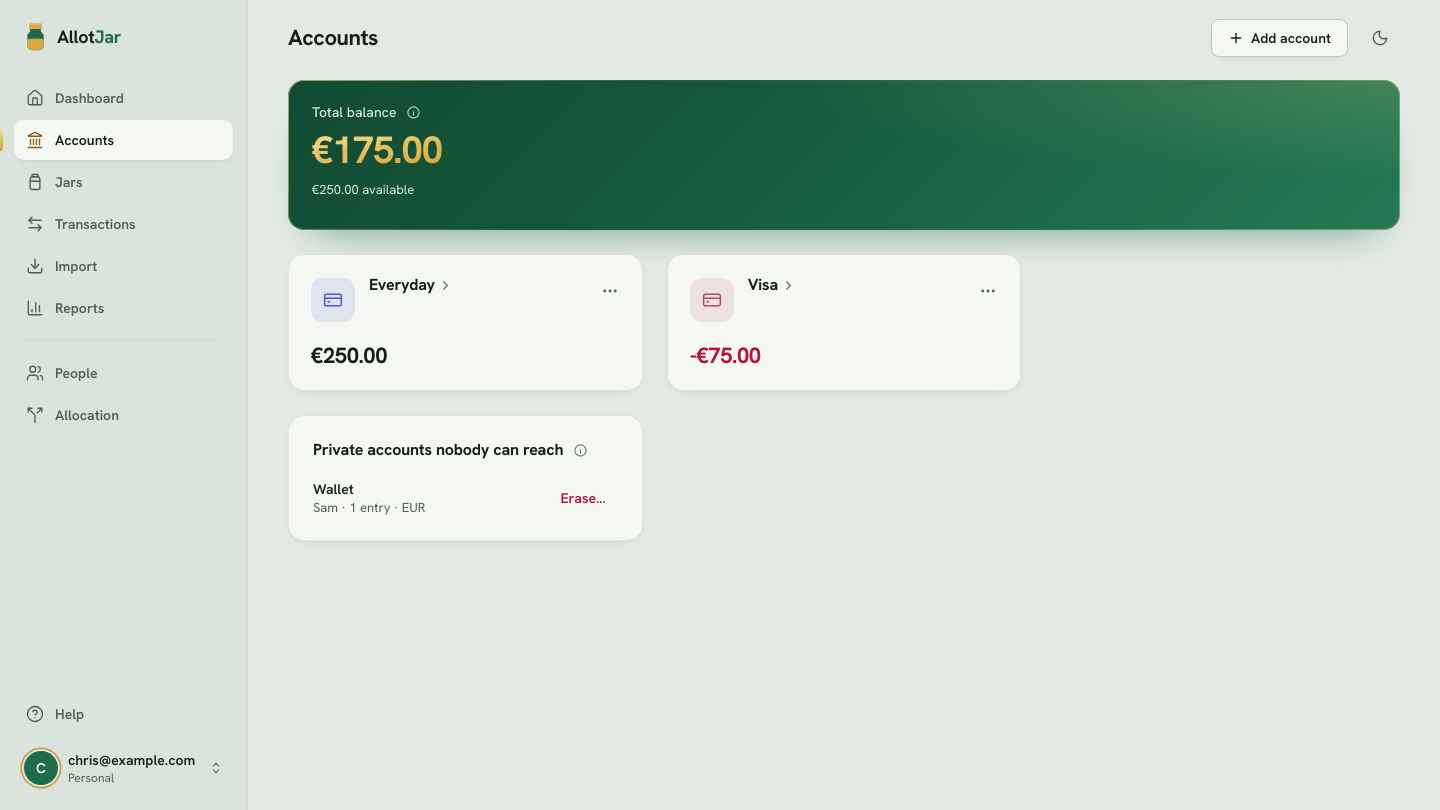
AccountsPage › shows the server’s reason when an erase is refused
Step 1. Click the button with aria-label "Erase Wallet" → coordinates (583, 498), box 548,478 -> 618,518
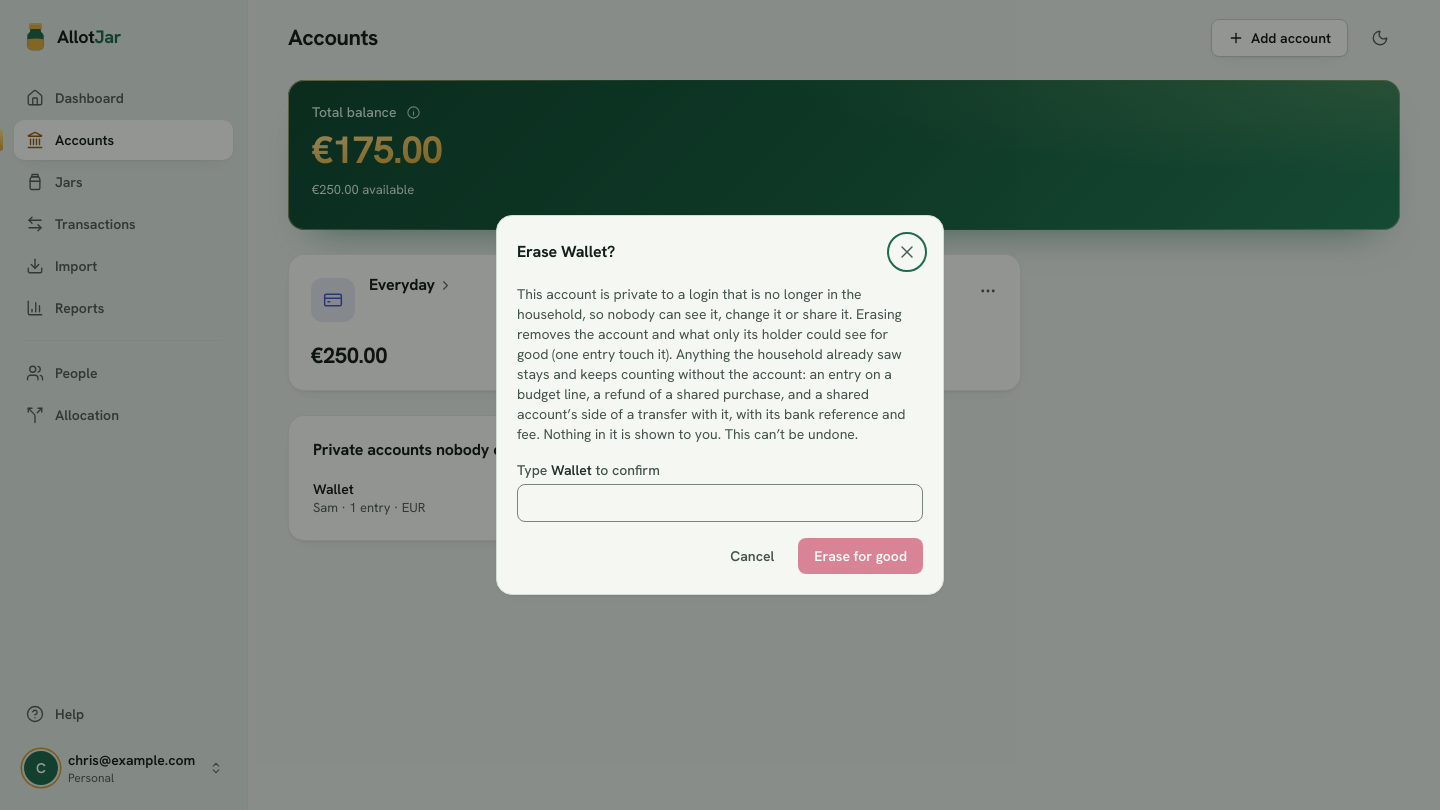
Step 2. Type "wallet" into the field labelled "Type Wallet to confirm" → coordinates (720, 503), box 517,484 -> 923,522
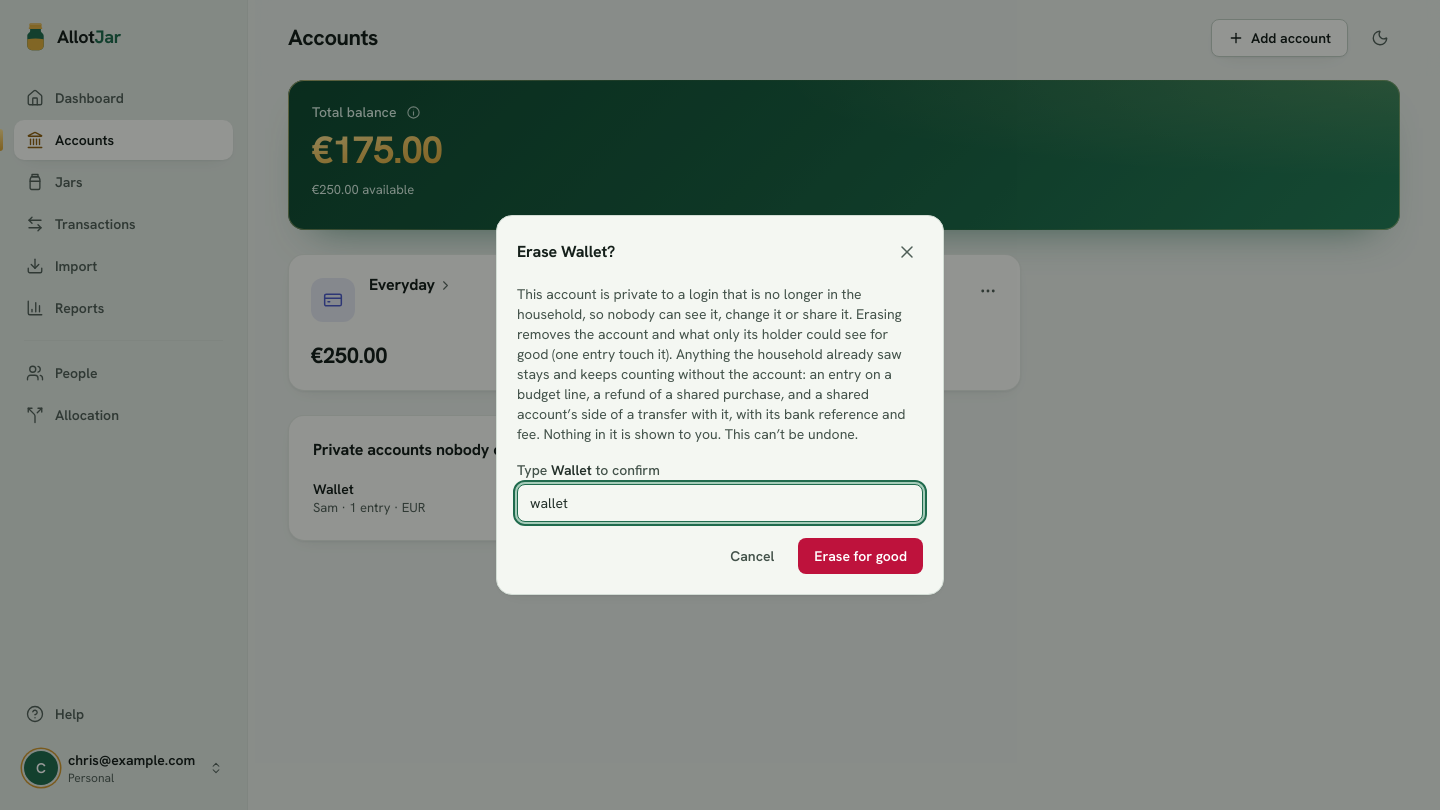
Step 3. Click the button "Erase for good" → coordinates (861, 556), box 798,538 -> 923,574
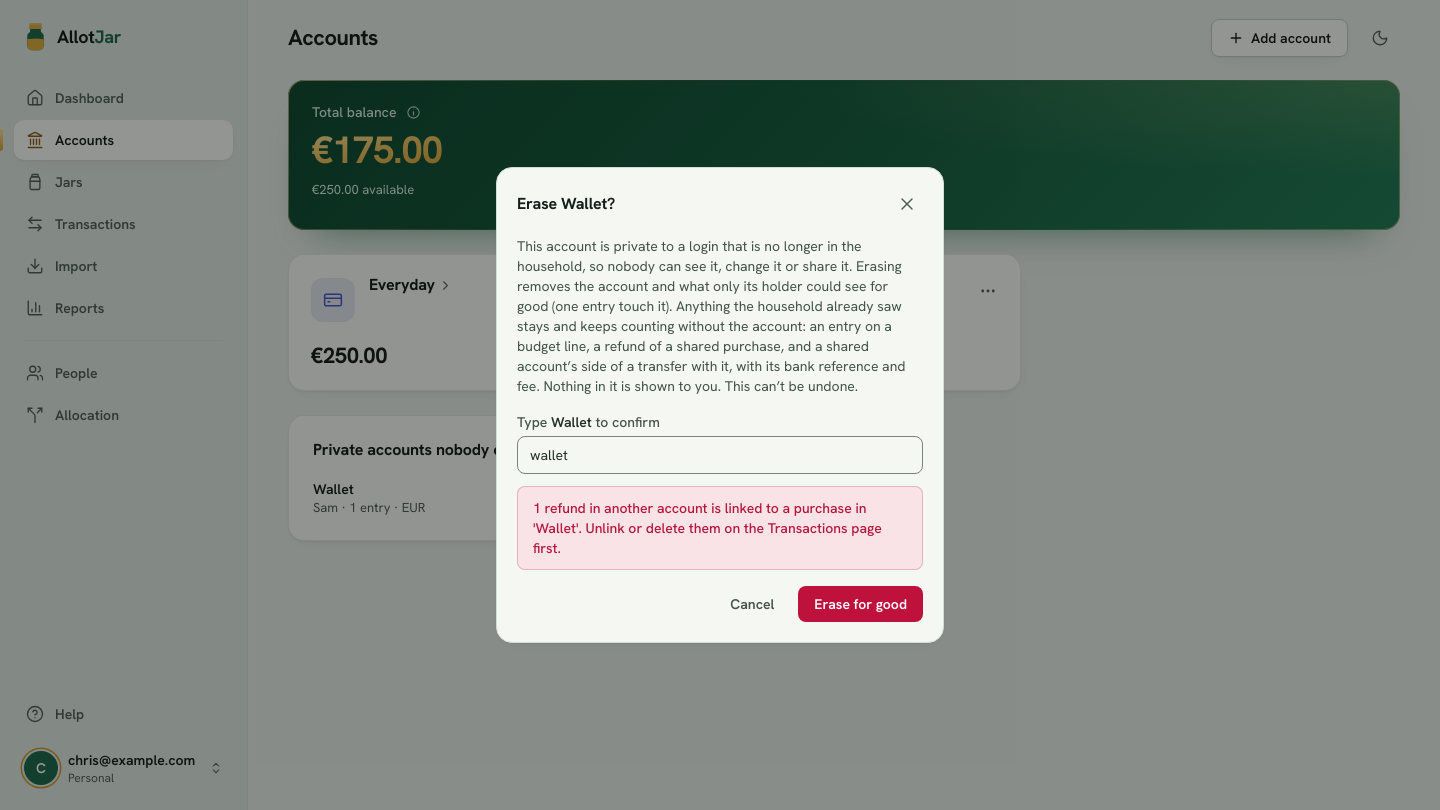
Expected: the element with test id "unreachable-accounts" is shown, 288,415 -> 643,541
Expected: the text "1 refund in another account is linked" is shown, 533,499 -> 882,557
